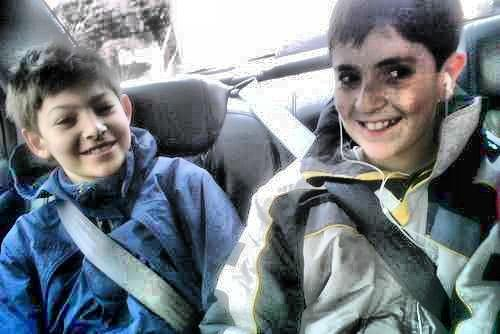seatbelt: (240, 81, 466, 316), (56, 180, 199, 318)
